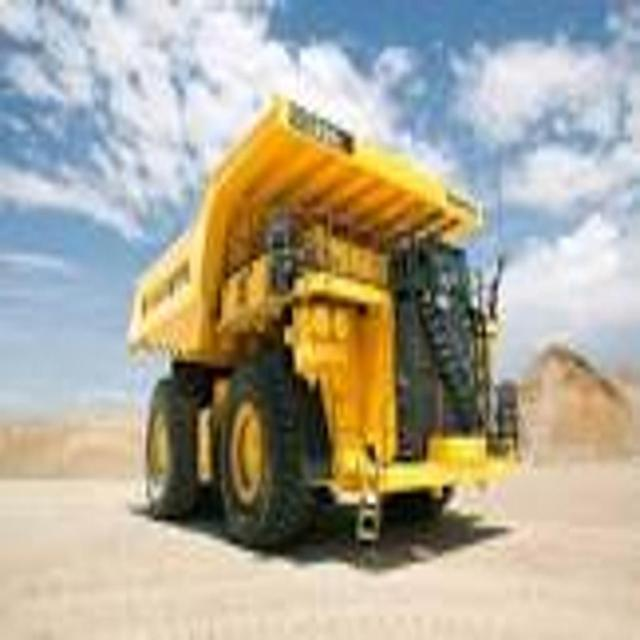dump_truck: (124, 91, 531, 565)
